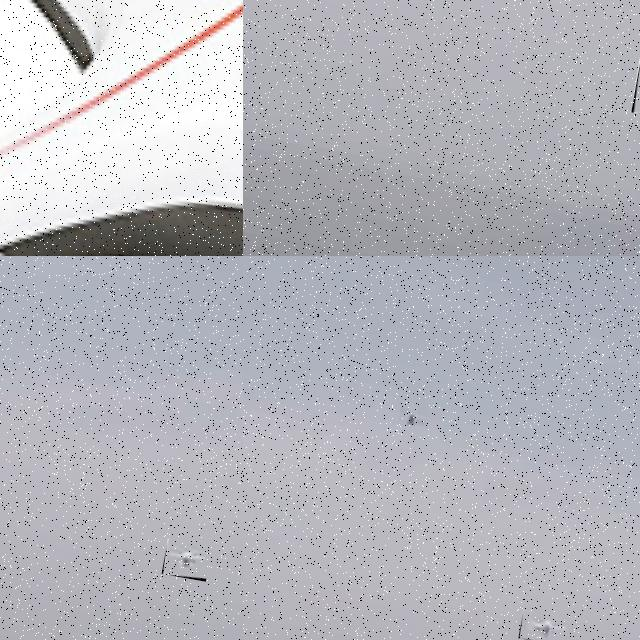drone: (0, 0, 243, 256), (161, 538, 212, 581), (518, 609, 572, 640)
